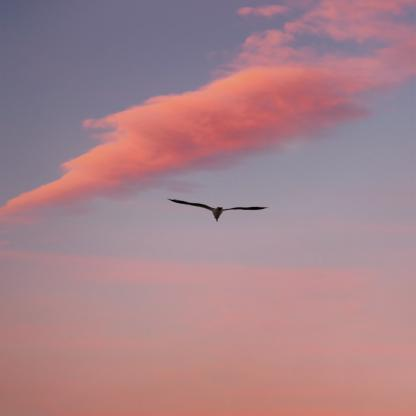bird: (170, 198, 268, 223)
